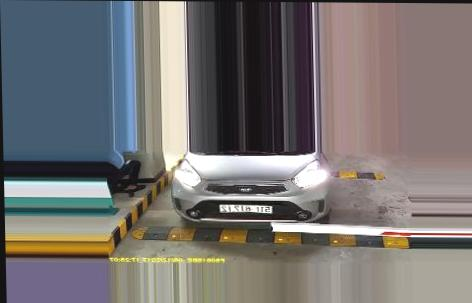License_Plate: (218, 203, 274, 215)
